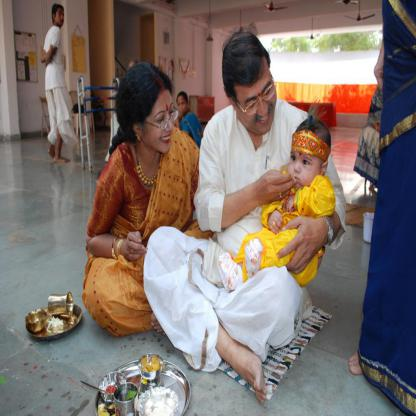face: (235, 59, 278, 135), (141, 91, 174, 154), (288, 145, 321, 191), (178, 97, 188, 114), (56, 9, 65, 27)
